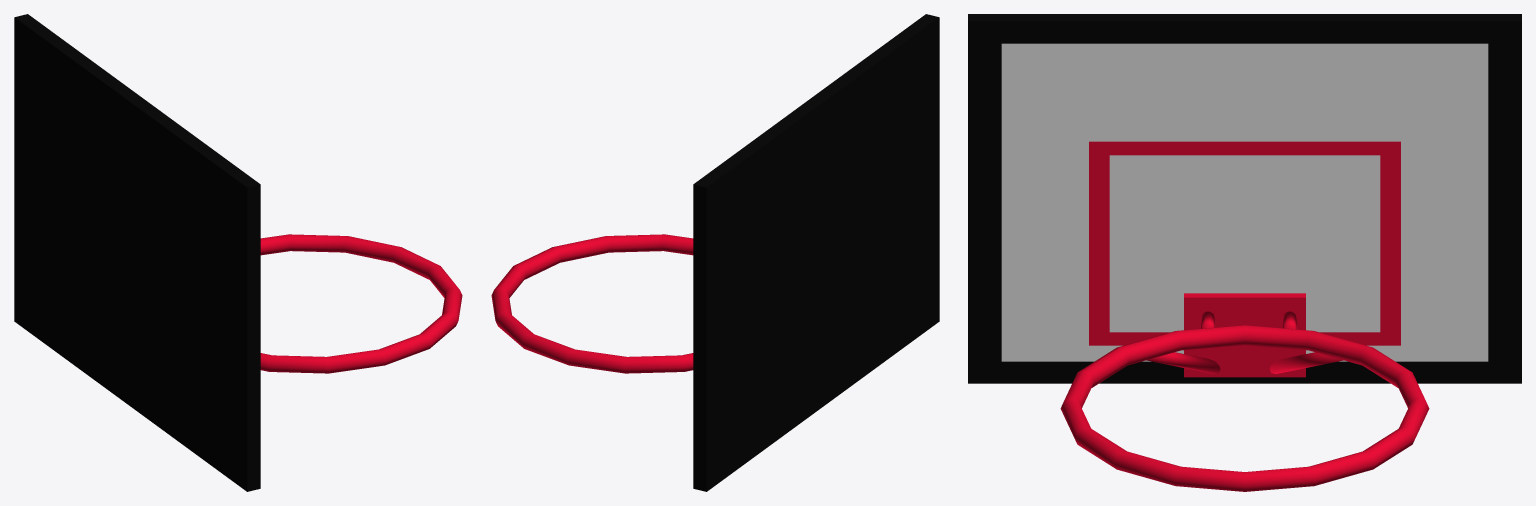
File: Basketballhoop.fbx
3 renders of one model, left to right at view 1: azimuth 30°, elevation 25°; view 2: azimuth 150°, elevation 25°; view 3: azimuth 270°, elevation 25°, orthographic. The views are drawn at different scales.
Parts seen in each view (by area): view 1: Cube, Torus; view 2: Cube, Torus; view 3: Cube, Torus, Cube.001, Cylinder, Cylinder.001.
Part boxes in pixels (x1,y1,x2,y2): Cube: [14, 14, 260, 491]; Torus: [260, 234, 462, 373]; Cube: [693, 14, 939, 491]; Torus: [491, 234, 693, 373]; Cube: [968, 14, 1521, 383]; Torus: [1060, 325, 1429, 491]; Cube.001: [1184, 293, 1305, 377]; Cylinder: [1132, 343, 1220, 373]; Cylinder.001: [1269, 343, 1357, 373].
Bounding box in the file's own units: 155 × 144 × 200.
